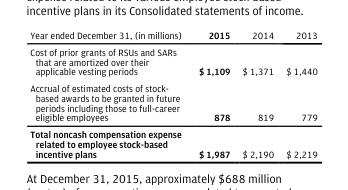table: (29, 29, 316, 159)
table column: (29, 29, 189, 159), (189, 29, 235, 159), (235, 29, 279, 159), (279, 29, 316, 159)
table column header: (29, 29, 316, 43)
table row: (29, 79, 316, 125), (29, 43, 316, 79), (29, 125, 316, 159), (29, 29, 316, 43)
